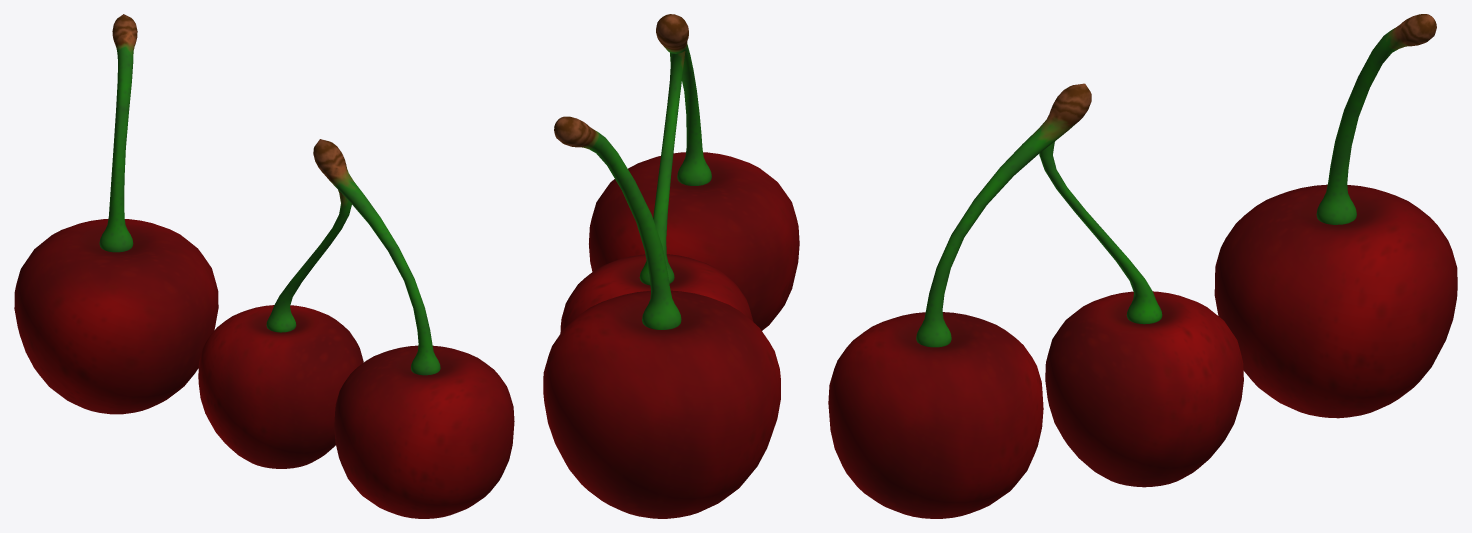
File: cherries.glb
The picture shows the model from 3 angles, left to right: view 1: azimuth 30°, elevation 25°; view 2: azimuth 150°, elevation 25°; view 3: azimuth 270°, elevation 25°; orthographic projection. The views are drawn at different scales.
Visible parts, largest first — view 1: Sphere_003_Sphere_006, Sphere_002_Sphere_007; view 2: Sphere_002_Sphere_007, Sphere_003_Sphere_006; view 3: Sphere_003_Sphere_006, Sphere_002_Sphere_007.
Part boxes in pixels (left/top/right/bottom): Sphere_003_Sphere_006: left=198, top=139, right=514, bottom=518; Sphere_002_Sphere_007: left=14, top=14, right=218, bottom=414; Sphere_002_Sphere_007: left=543, top=116, right=780, bottom=518; Sphere_003_Sphere_006: left=560, top=14, right=799, bottom=333; Sphere_003_Sphere_006: left=828, top=83, right=1243, bottom=518; Sphere_002_Sphere_007: left=1214, top=14, right=1457, bottom=418.
Size of the model in its own units: 4.08 by 4.65 by 6.08.
1 material, 1 textured.
